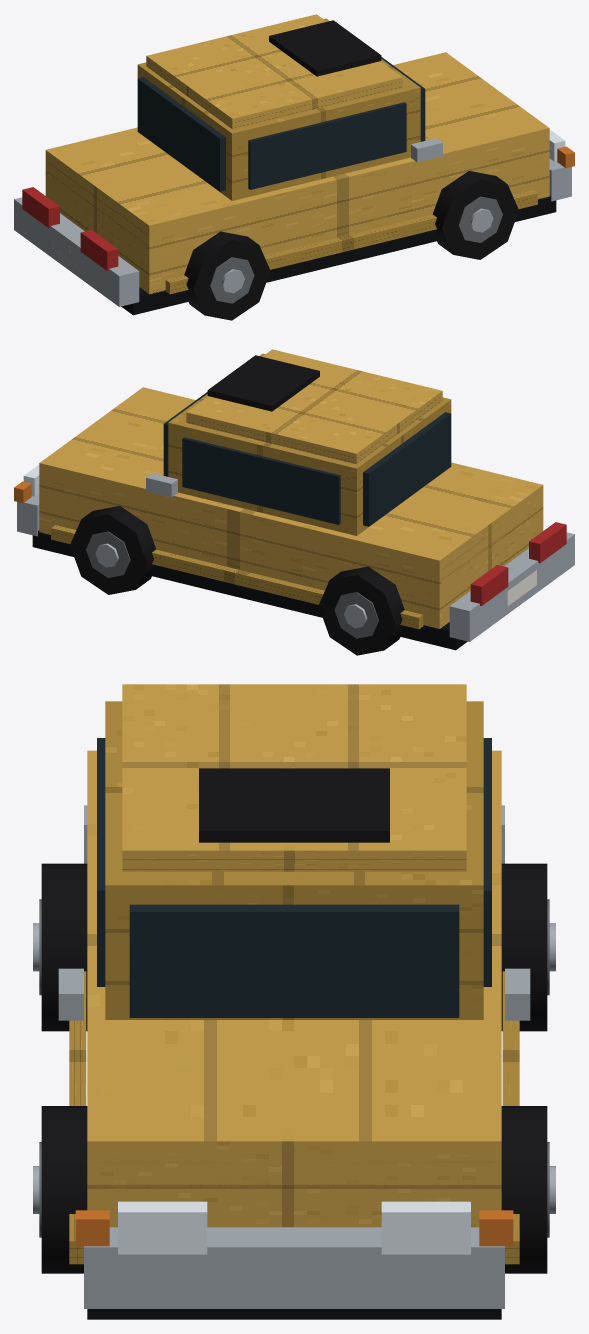
The model's file is street_car_b.glb.
The picture shows the model from 3 angles, top to bottom: view 1: azimuth 30°, elevation 25°; view 2: azimuth 150°, elevation 25°; view 3: azimuth 270°, elevation 25°; orthographic projection. The views are drawn at different scales.
Parts seen in each view (by area): view 1: Shell, Roof, Tire (×2), SideGlassL, Cabin, RearGlass, RearBumper, RoofRack, Undercarriage, SkirtL, Trunk, Rim (×2) (+6 smaller); view 2: Shell, Roof, Tire (×2), SideGlassR, Cabin, RearGlass, RearBumper, RoofRack, Undercarriage, SkirtR, Rim (×2), Trunk (+7 smaller); view 3: Shell, Roof, Windshield, FrontBumper, Tire (×4), Cabin, RoofRack, HeadL, HeadR, Hood, Undercarriage, SideGlassL (+7 smaller).
Boxes of the visible parts, box(x1,y1,x2,y2) form: Shell: box(45, 52, 549, 294); Roof: box(146, 14, 402, 129); Tire (×2): box(184, 171, 518, 320); SideGlassL: box(248, 102, 406, 189); Cabin: box(137, 18, 420, 200); RearGlass: box(137, 77, 225, 191); RearBumper: box(14, 197, 139, 306); RoofRack: box(269, 20, 381, 76); Undercarriage: box(121, 195, 556, 315); SkirtL: box(165, 190, 537, 294); Trunk: box(47, 153, 147, 252); Rim (×2): box(210, 196, 502, 303); Shell: box(39, 387, 543, 628); Roof: box(186, 349, 442, 464); Tire (×2): box(70, 506, 404, 655); SideGlassR: box(182, 437, 340, 524); Cabin: box(168, 353, 451, 535); RearGlass: box(363, 412, 451, 526); RearBumper: box(449, 532, 574, 641); RoofRack: box(207, 355, 319, 411); Undercarriage: box(32, 530, 467, 650); SkirtR: box(51, 525, 423, 629); Rim (×2): box(86, 531, 378, 638); Trunk: box(441, 516, 516, 587); Shell: box(87, 750, 501, 1227); Roof: box(122, 684, 466, 871); Windshield: box(129, 904, 459, 1017); FrontBumper: box(84, 1227, 504, 1308); Tire (×4): box(41, 863, 547, 1273); Cabin: box(105, 701, 483, 1019); RoofRack: box(199, 768, 389, 842); HeadL: box(118, 1201, 207, 1254); HeadR: box(381, 1201, 470, 1254); Hood: box(95, 1145, 494, 1197); Undercarriage: box(87, 1309, 501, 1319); SideGlassL: box(97, 738, 105, 986).
Bounding box in the file's own units: 4.96 × 1.98 × 2.46.
11 materials, 2 textured.
